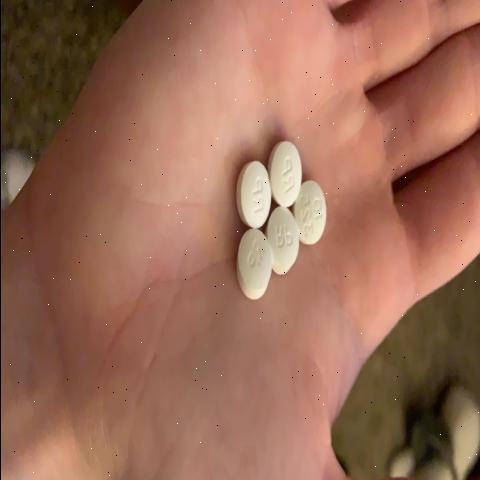Pill: (223, 140, 275, 224), (230, 220, 274, 304), (266, 201, 302, 287), (270, 129, 302, 209), (295, 184, 328, 248)
